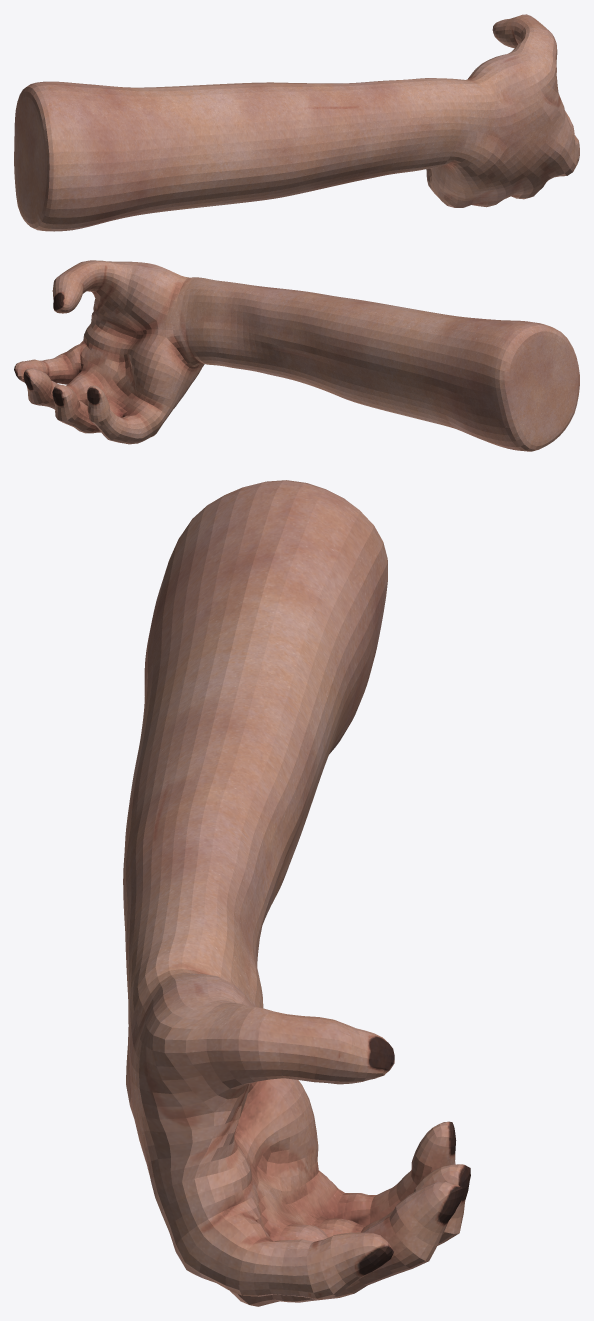
The model's file is HandLP.fbx.
The picture shows the model from 3 angles, top to bottom: view 1: azimuth 30°, elevation 25°; view 2: azimuth 150°, elevation 25°; view 3: azimuth 270°, elevation 25°; orthographic projection. The views are drawn at different scales.
Parts seen in each view (by area): view 1: HandLP:polySurface1; view 2: HandLP:polySurface1; view 3: HandLP:polySurface1.
Part boxes in pixels (box(x1,y1,x2,y2)): HandLP:polySurface1: box(14, 14, 579, 231); HandLP:polySurface1: box(14, 260, 579, 451); HandLP:polySurface1: box(123, 480, 470, 1306).
Size of the model in its own units: 5.92 by 2.22 by 1.73.
Materials: 1 (1 with a texture image).
